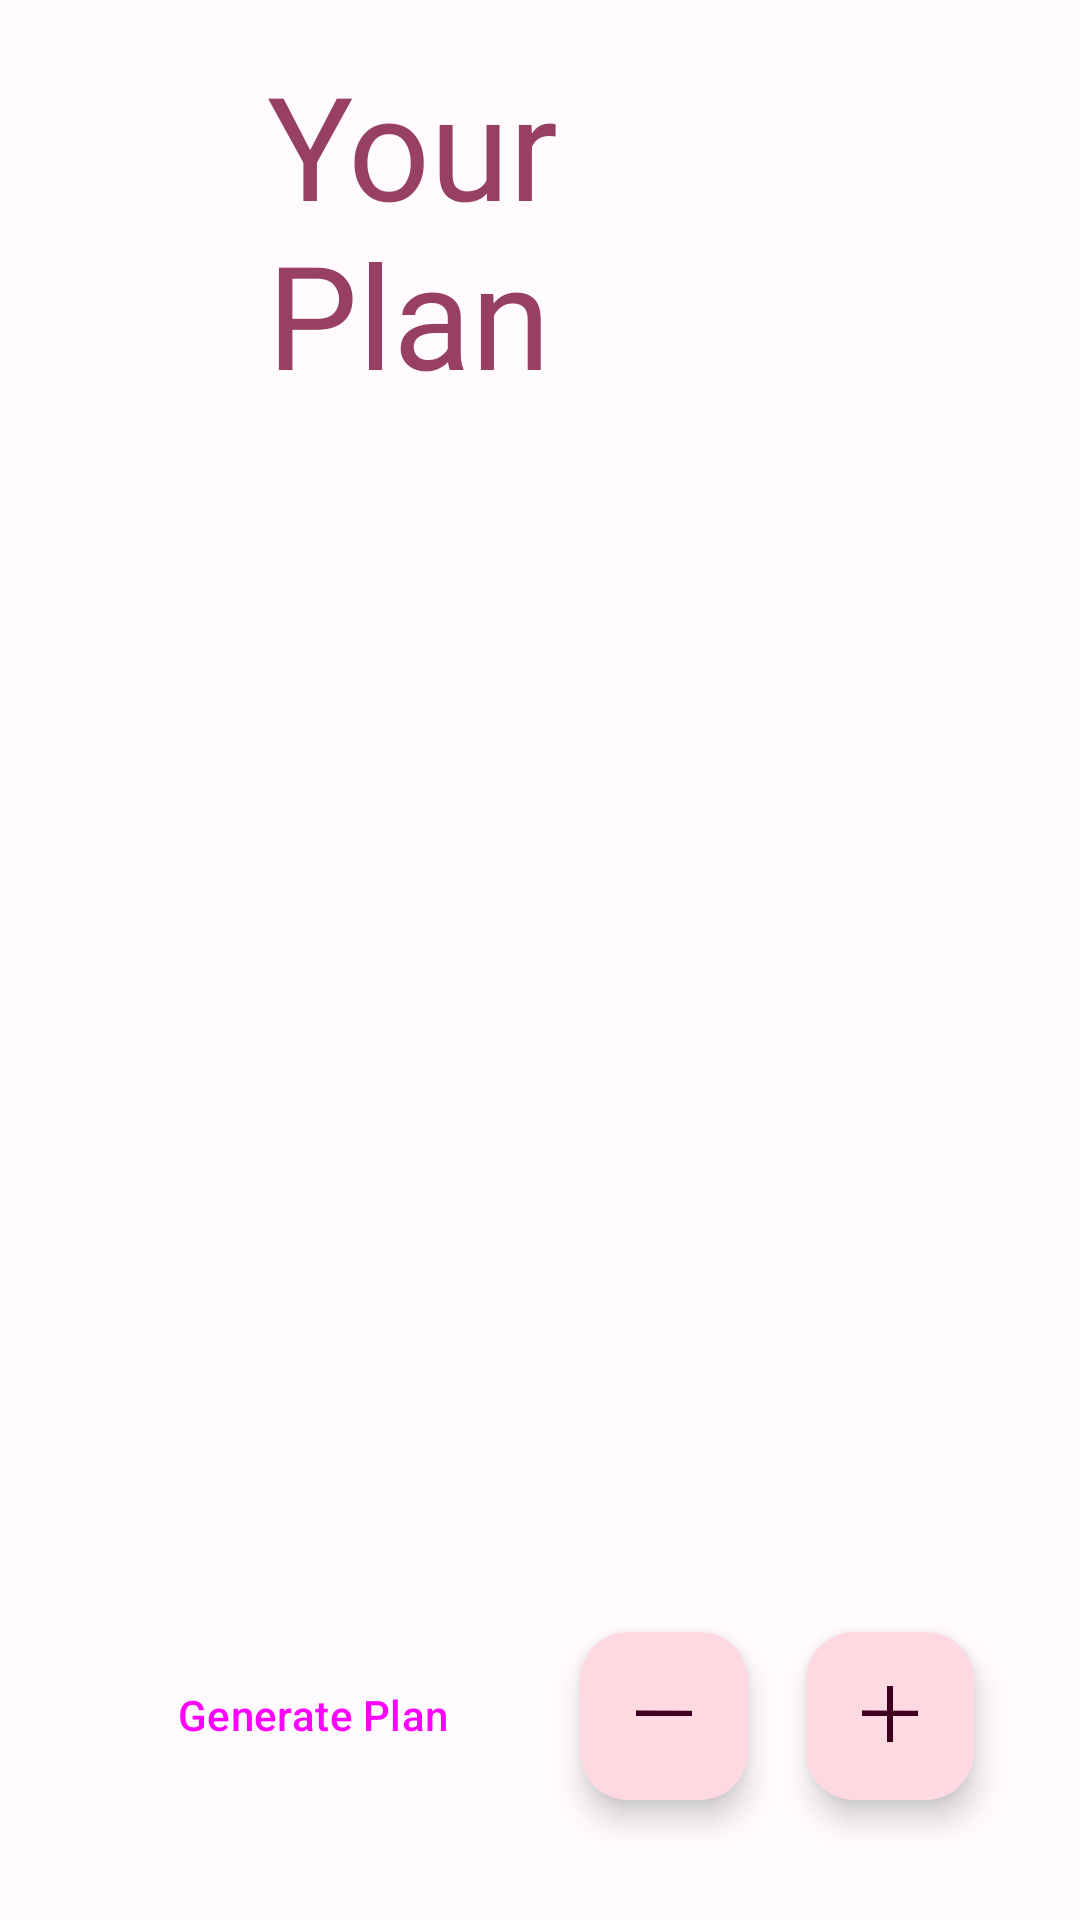

Named icons in this screenshot (1080 × 1920) and their bounding boxes, (x1, y1, x2, y2):
minus: (580, 1632, 748, 1800)
plus: (806, 1632, 974, 1800)
